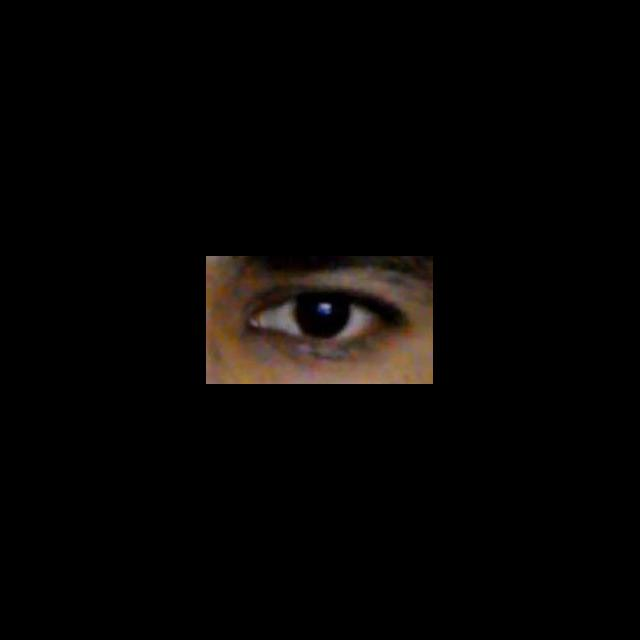eye: (256, 298, 385, 337)
iris: (296, 302, 351, 335)
